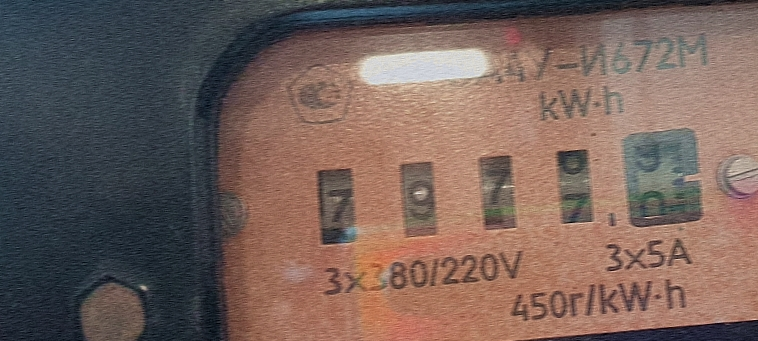0: (635, 179, 671, 221)
7: (480, 159, 515, 205), (323, 179, 357, 225), (559, 184, 593, 222)
9: (402, 171, 440, 219), (631, 132, 666, 171)
screen: (292, 101, 732, 281)
